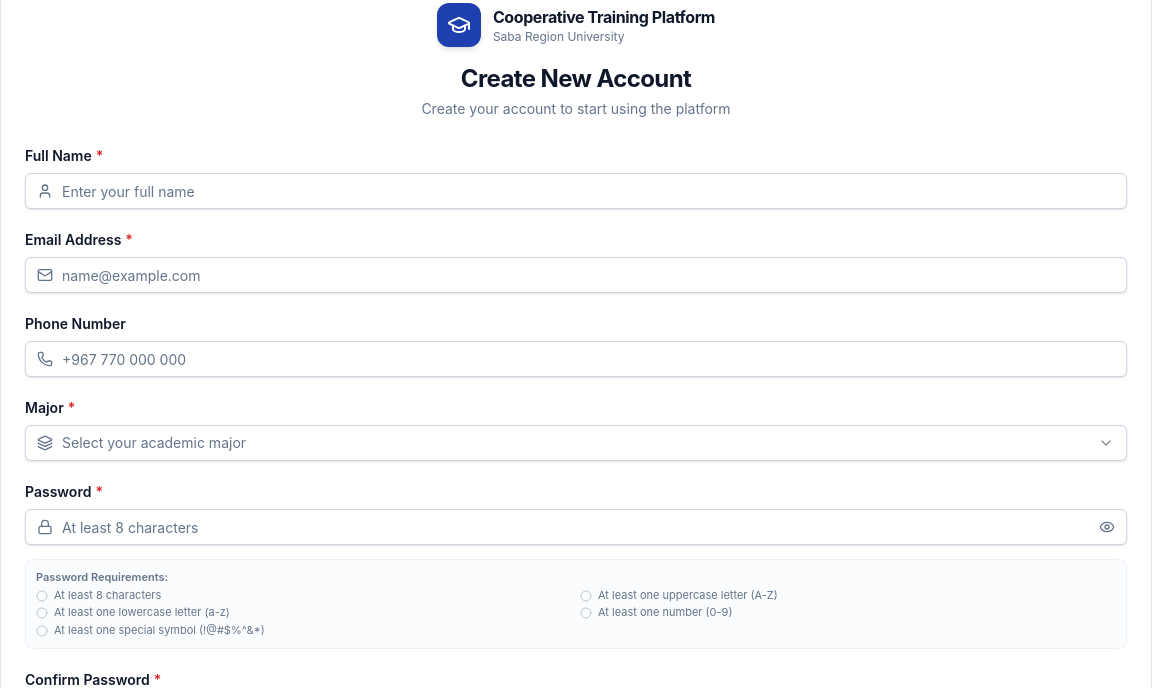
Test case: RegisterForm Component › validates Yemen phone number and disposable email on the client side
In the field labelled "Full Name*": (576, 191) [25,173,1127,209], type "Ab"
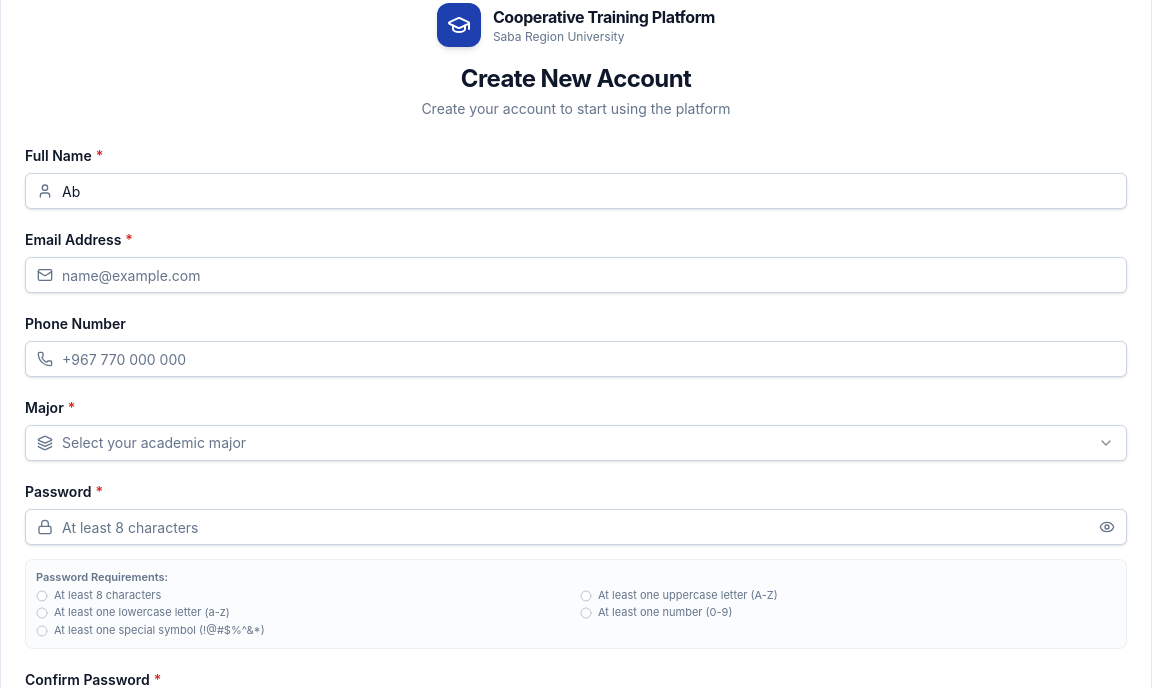
In the field labelled "Email Address*": (576, 275) [25,257,1127,293], type "test@mailinator.com"
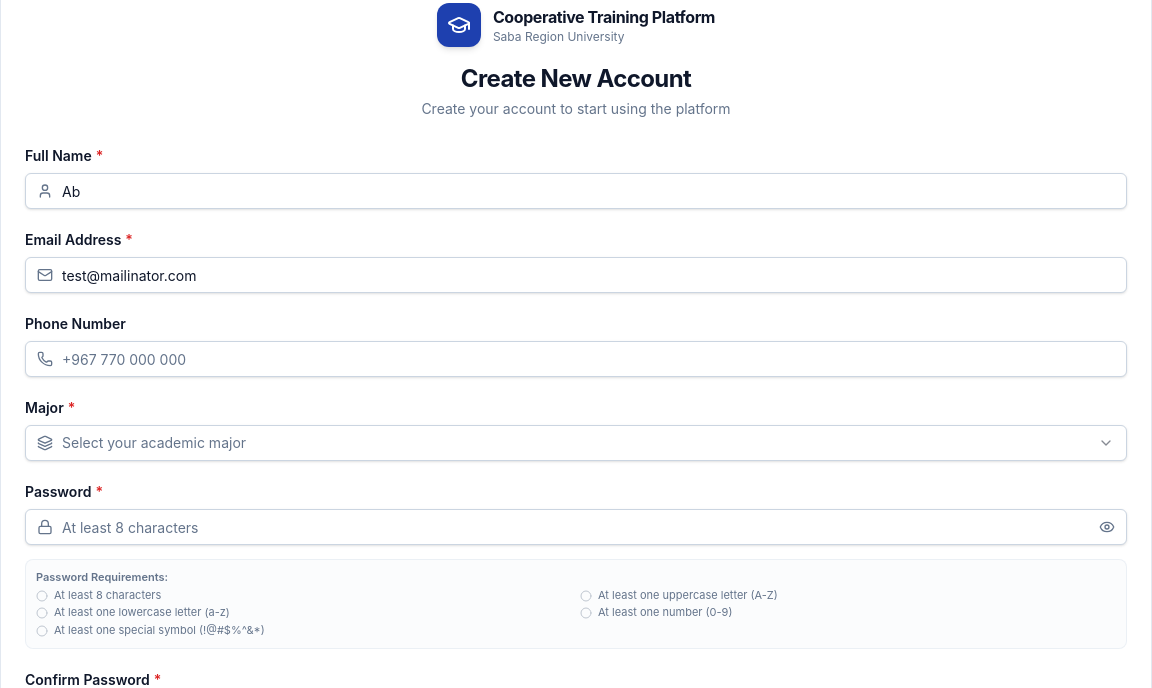
In the field labelled "Phone Number": (576, 359) [25,341,1127,377], type "+123456789"
(page scrolled)
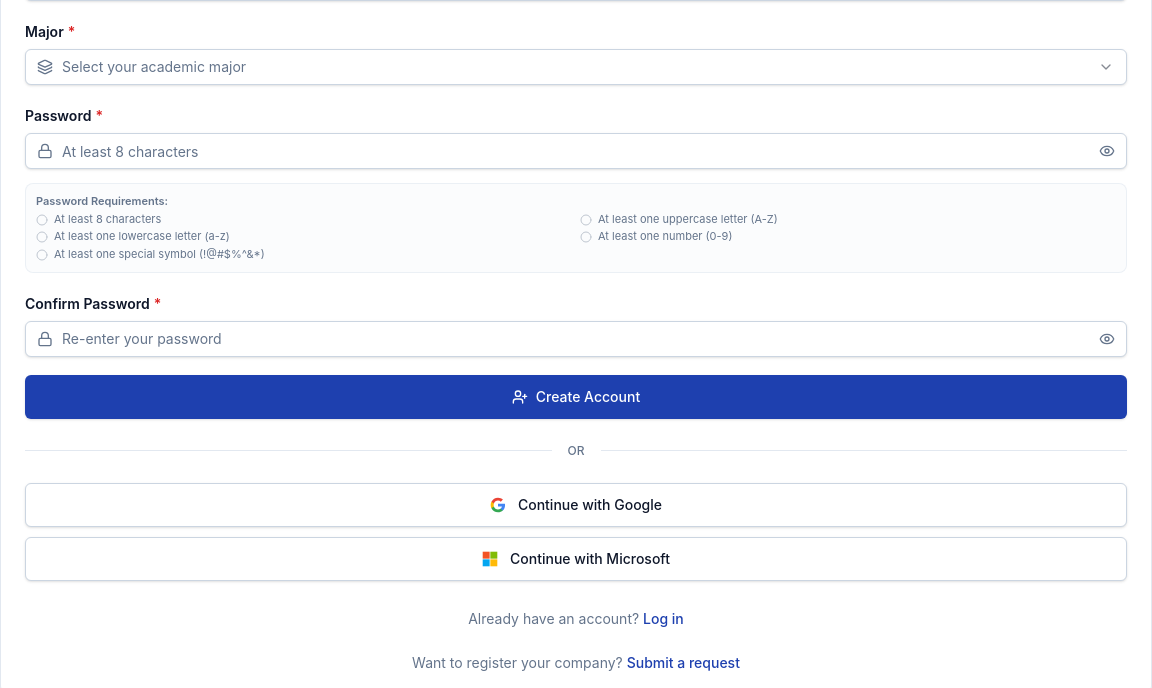
Click the button "Create Account": (576, 397) [25,375,1127,419]
(page scrolled)
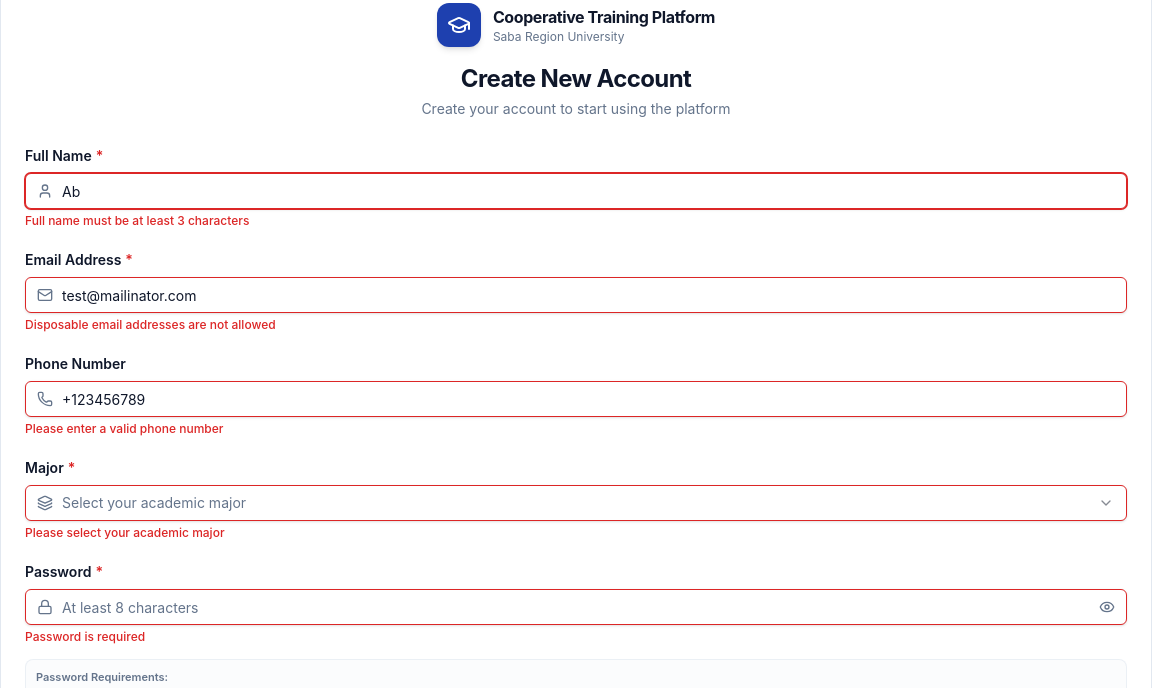
Expected: the text "Full name must be at least 3 characters" is shown, [25,213,249,228]
Expected: the text "Disposable email addresses are not allowed" is shown, [25,317,276,332]
Expected: the text "Please enter a valid phone number" is shown, [25,421,223,436]
